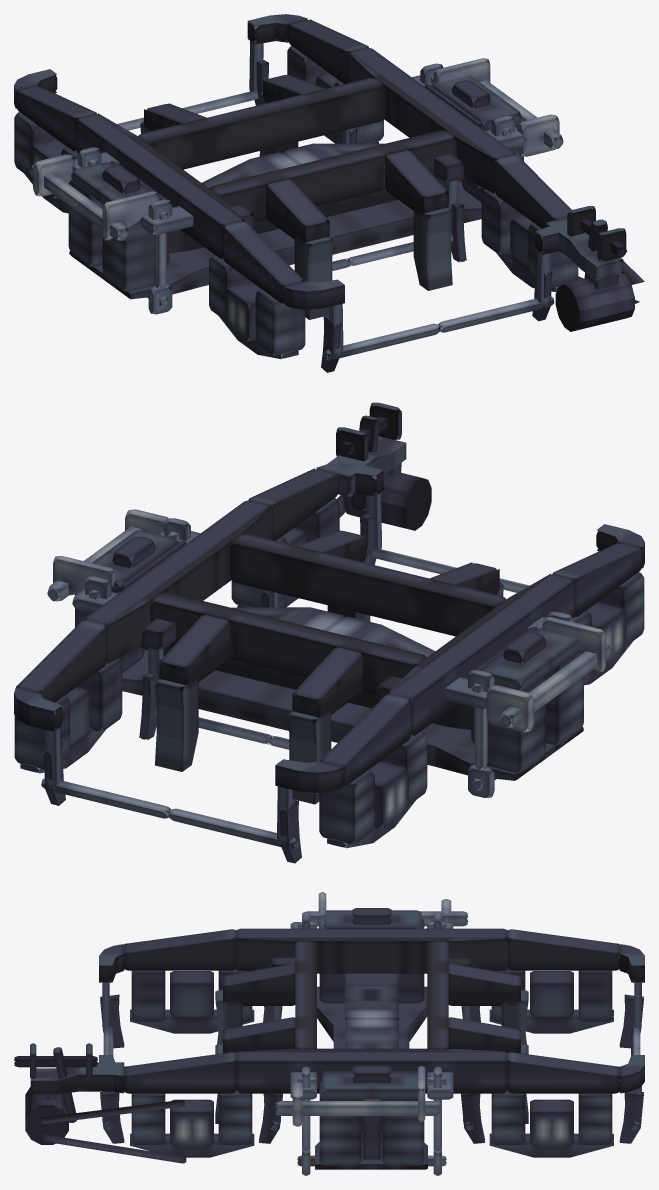
Rendered from pk209p_main.obj.
3 renders of one model, top to bottom at view 1: azimuth 30°, elevation 25°; view 2: azimuth 150°, elevation 25°; view 3: azimuth 270°, elevation 25°, orthographic. The views are drawn at different scales.
Parts seen in each view (by area): view 1: 车轴发电机; view 2: 车轴发电机; view 3: 车轴发电机.
Part boxes in pixels (x1,y1,x2,y2): 车轴发电机: (14, 14, 644, 372); 车轴发电机: (14, 402, 644, 863); 车轴发电机: (14, 892, 644, 1175).
Bounding box in the file's own units: 3.15 × 0.7775 × 4.22.
